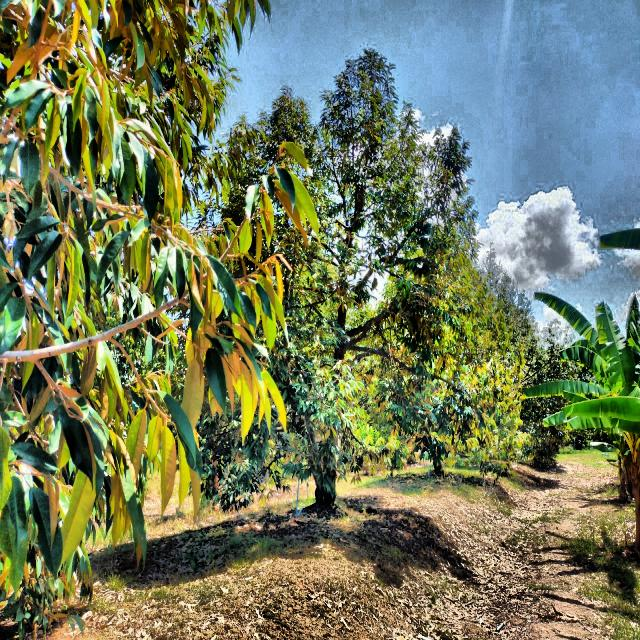arvore: (307, 261, 352, 530)
